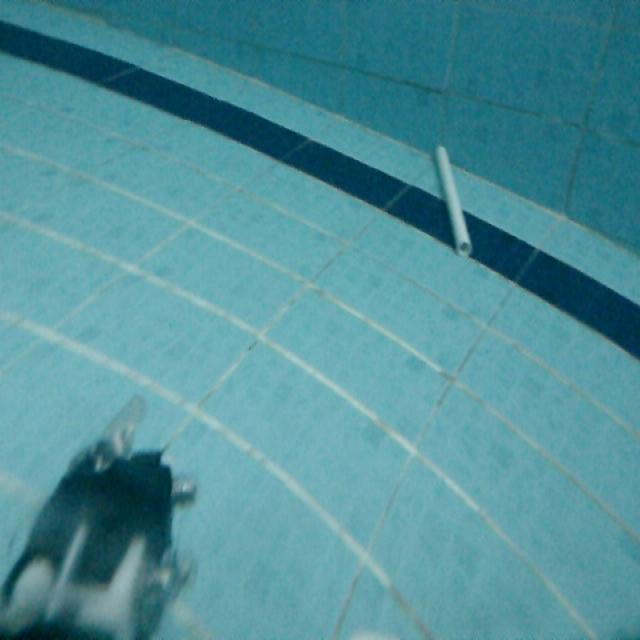Cube: (431, 138, 475, 258)
